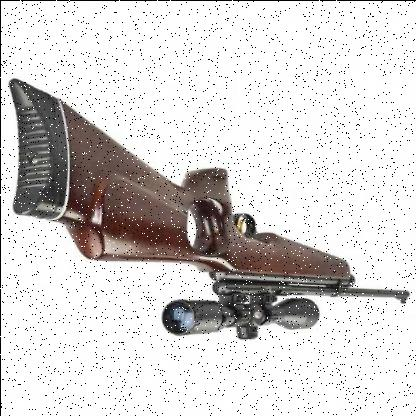rifle: (1, 71, 394, 360)
